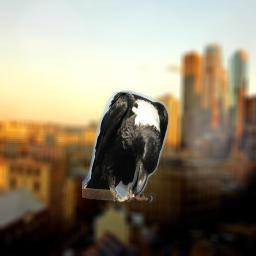Crow: (82, 88, 169, 205)
